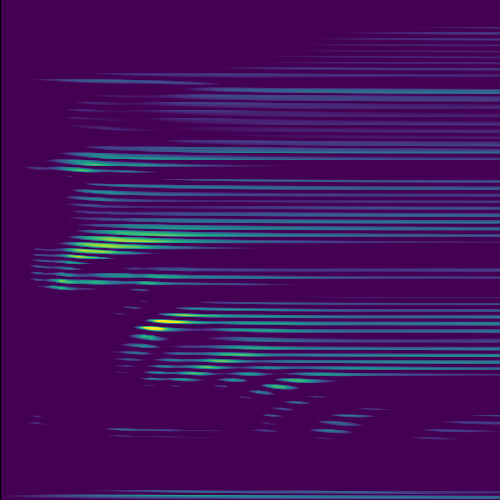semblance: (63, 211, 209, 266), (128, 294, 220, 343), (54, 147, 119, 183)
